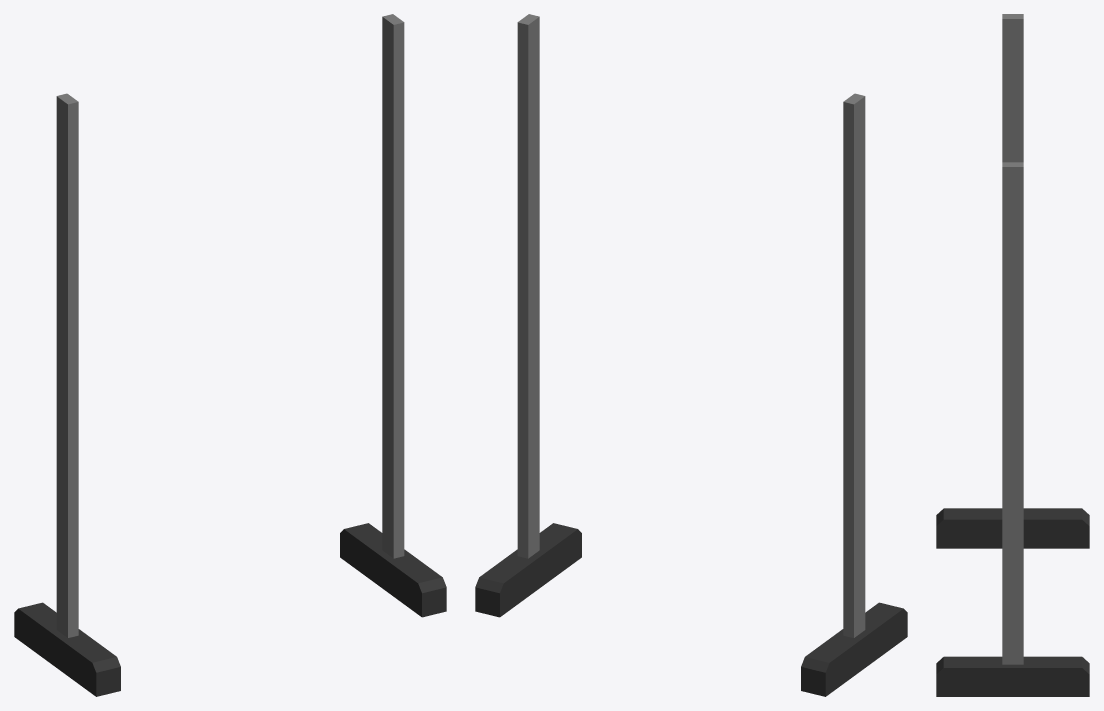
The model's file is pullup-stand.glb.
3 renders of one model, left to right at view 1: azimuth 30°, elevation 25°; view 2: azimuth 150°, elevation 25°; view 3: azimuth 270°, elevation 25°, orthographic. The views are drawn at different scales.
Visible parts, largest first — view 1: Pullup_Stand; view 2: Pullup_Stand; view 3: Pullup_Stand.
Part boxes in pixels (<box>): Pullup_Stand: <box>14,14,446,696</box>; Pullup_Stand: <box>475,14,907,696</box>; Pullup_Stand: <box>936,14,1089,696</box>.
Bounding box in the file's own units: 188 × 289 × 76.08.
1 material, 1 textured.
